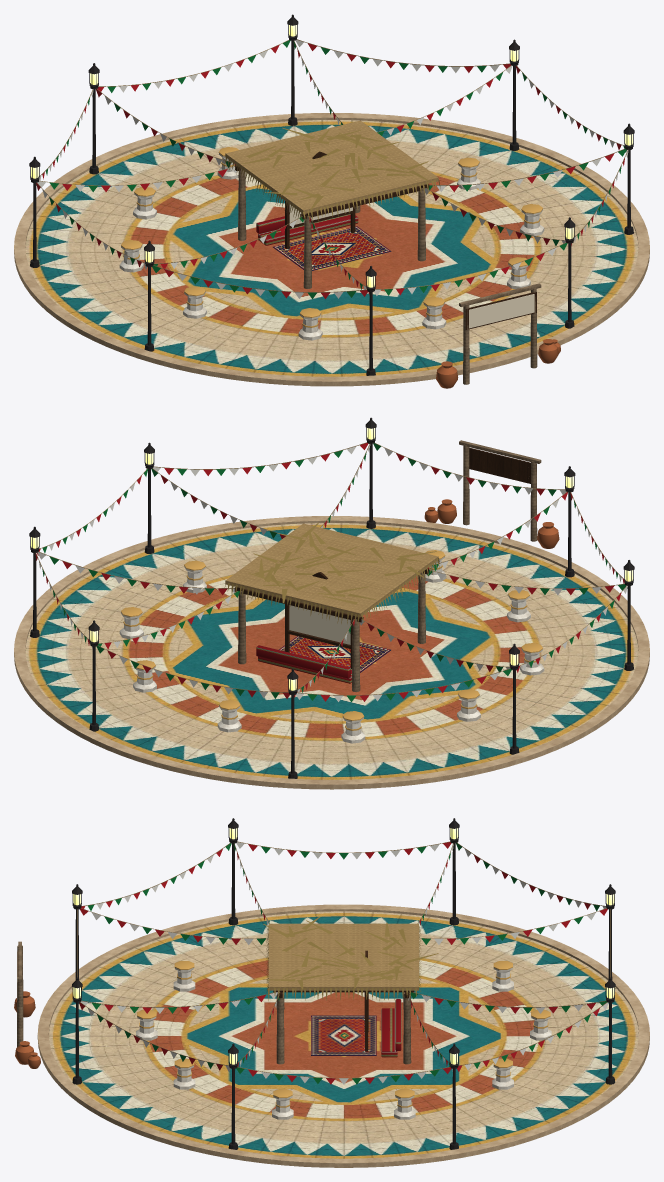
Rendered from quiz_court.glb.
3 views of the same model, one above another, from view 1: azimuth 30°, elevation 25°; view 2: azimuth 150°, elevation 25°; view 3: azimuth 270°, elevation 25° (orthographic). The views are drawn at different scales.
Visible parts, largest first — view 1: Quiz_Static, Sign_Court; view 2: Quiz_Static, Scoreboard; view 3: Quiz_Static.
Boxes of the visible parts, x1,y1,x2,y2 form: Quiz_Static: (14,14,649,388); Sign_Court: (469,294,534,328); Quiz_Static: (14,417,649,789); Scoreboard: (289,605,350,644); Quiz_Static: (14,818,649,1167).
Bounding box in the file's own units: 26.1 × 5.08 × 27.11.
18 materials, 8 textured.
